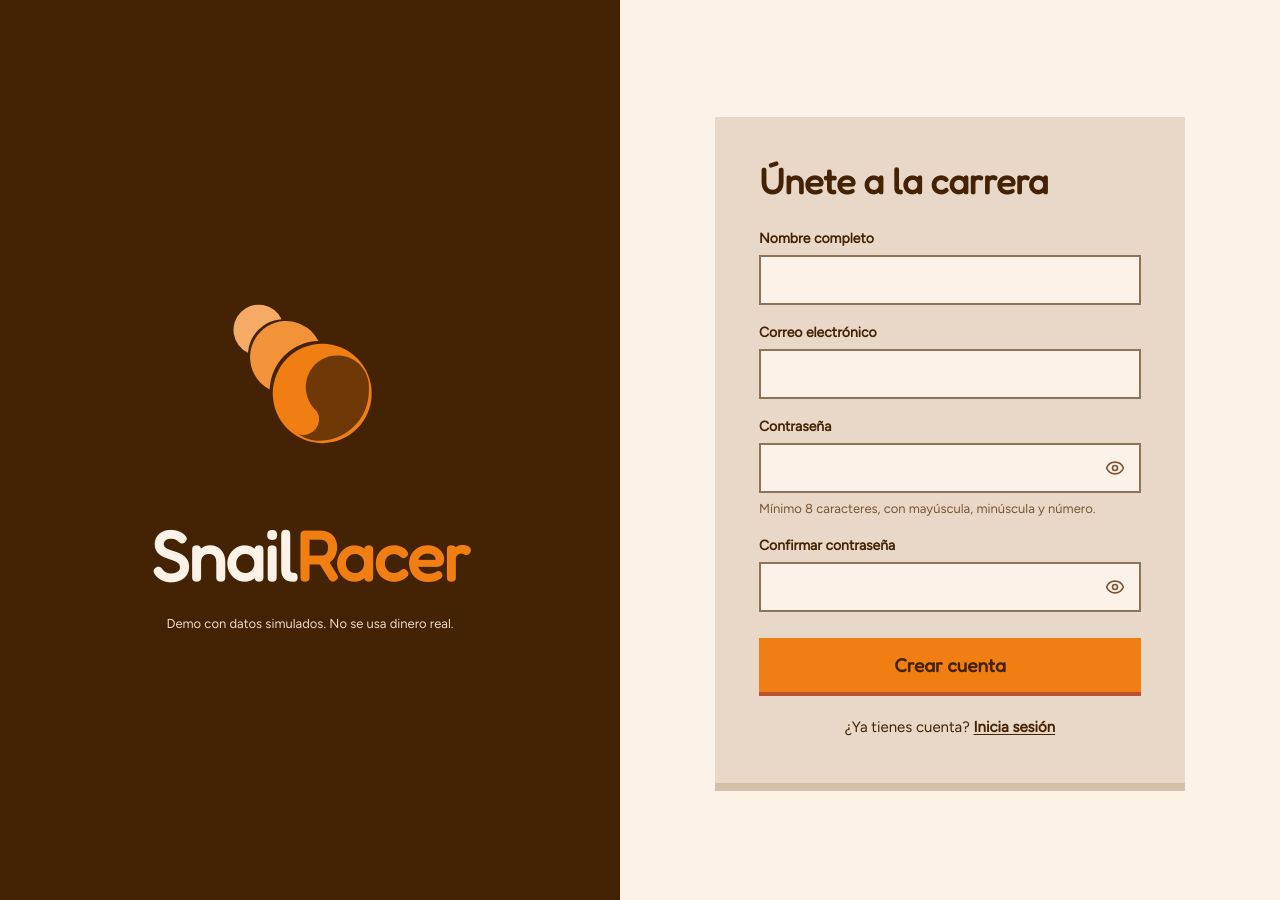
flujo de autenticación › muestra errores por campo y no envía un registro inválido
Type "art@" into the field labelled "Correo electrónico". click: (950, 374)
box: [759,349,1141,399]
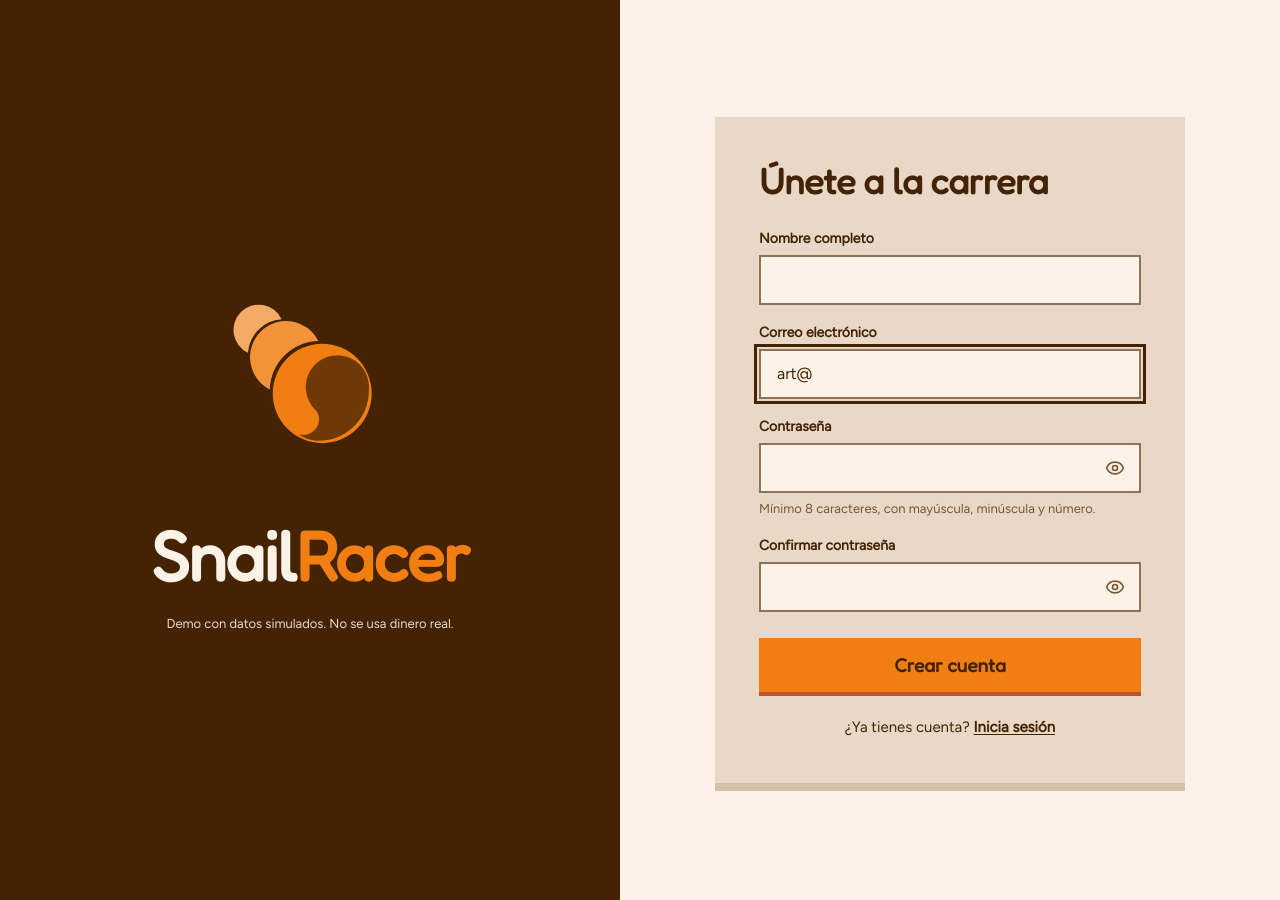
Type "Caracol123" into the password field labelled "Contraseña". click: (950, 468)
box: [759,443,1141,493]
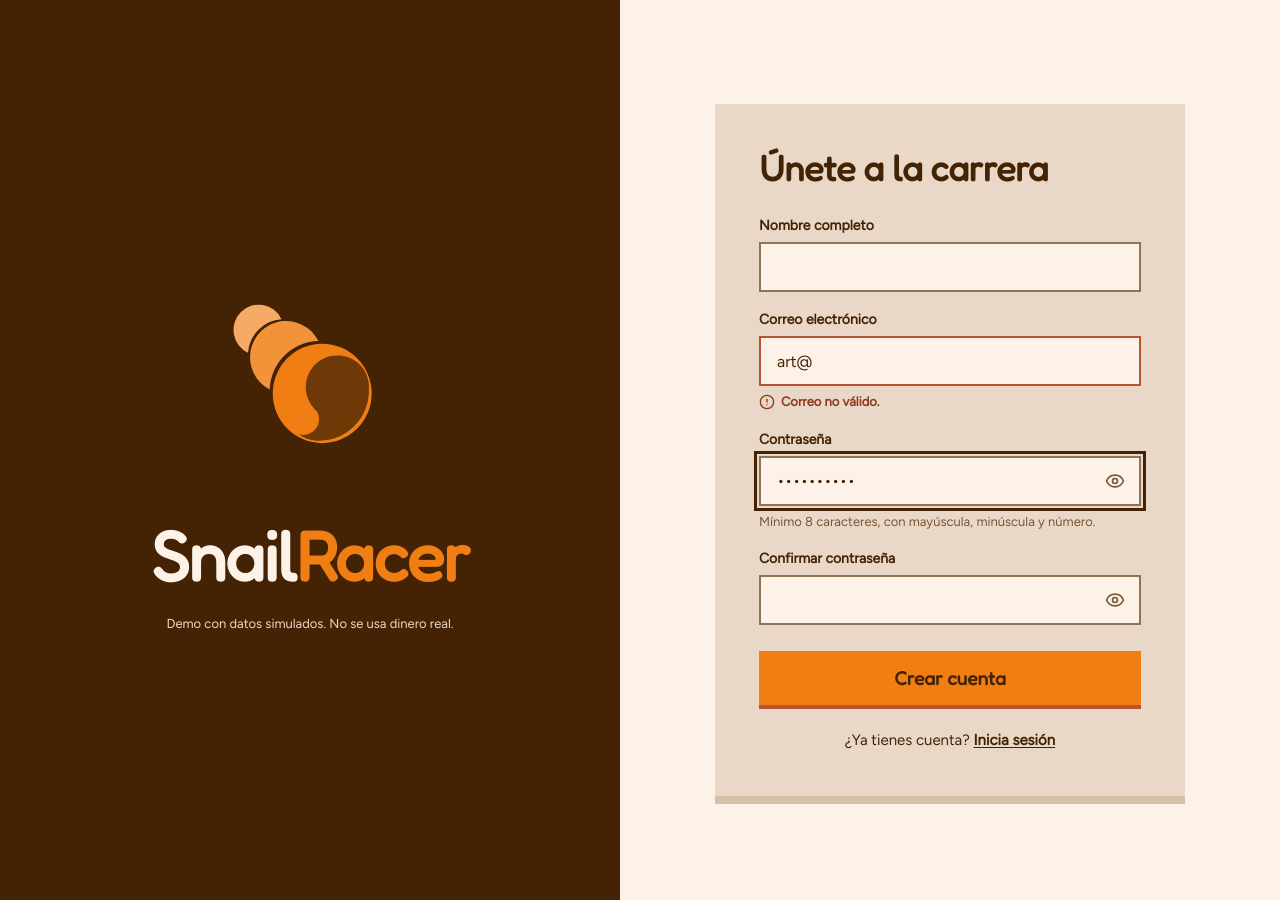
Type "Caracol124" into the password field labelled "Confirmar contraseña". click: (950, 600)
box: [759,575,1141,625]
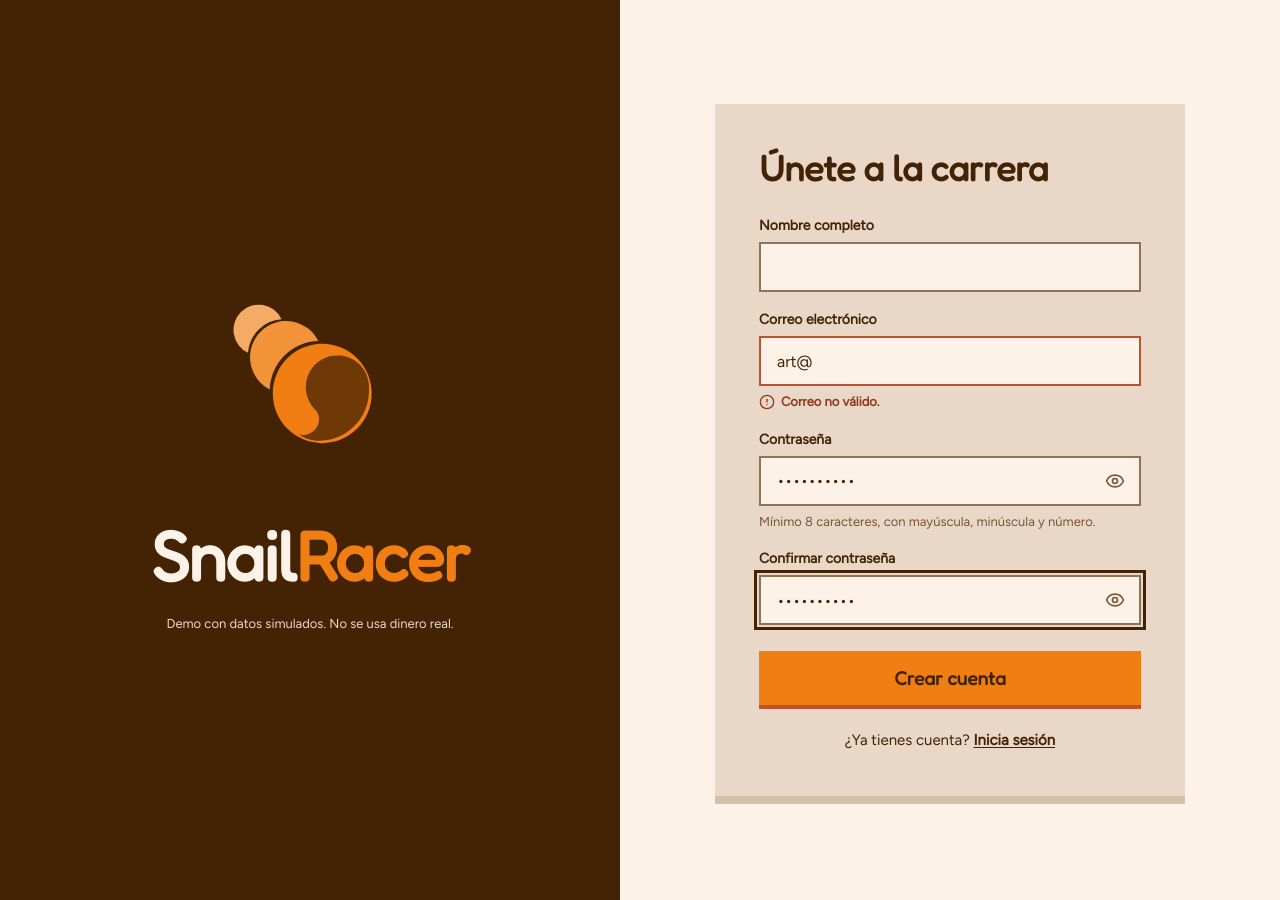
Click the button "Crear cuenta". click: (950, 678)
box: [759,651,1141,705]
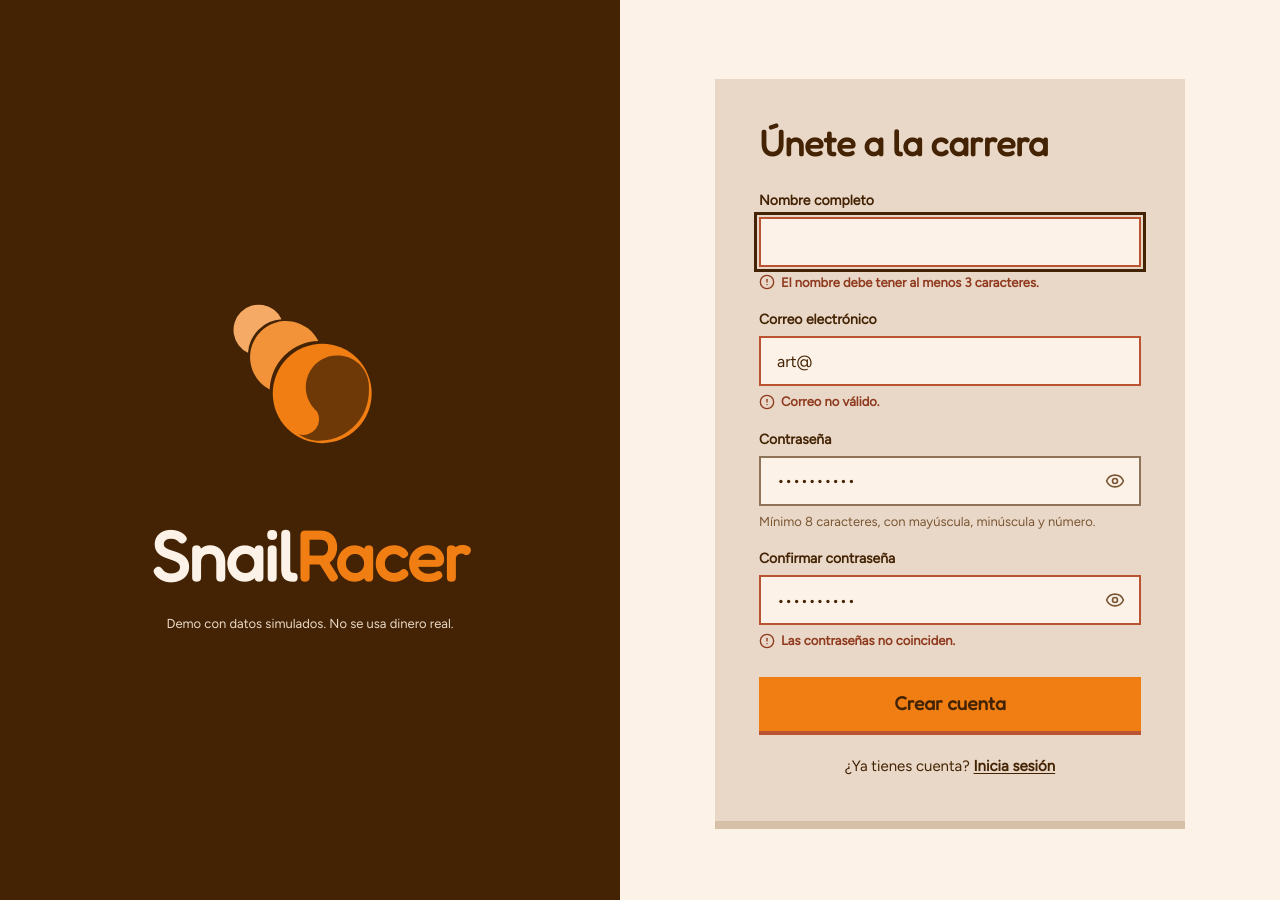
Expected: the text "Correo no válido." is shown, [759,394,880,410]
Expected: the text "El nombre debe tener al menos 3 caracteres." is shown, [759,274,1039,290]
Expected: the text "Las contraseñas no coinciden." is shown, [759,633,955,649]
